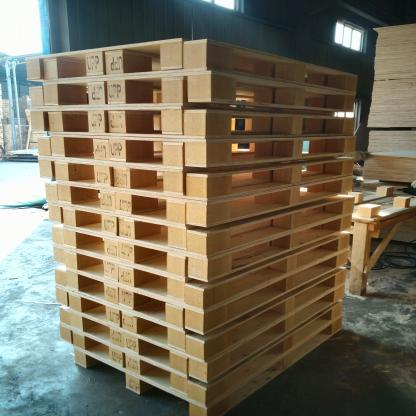BoxFace: (67, 319, 345, 416)
